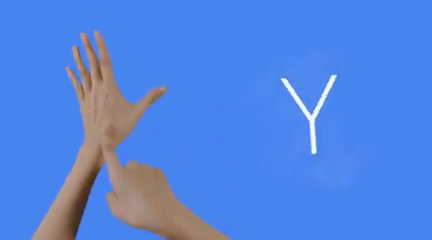Y: (61, 23, 207, 238)
